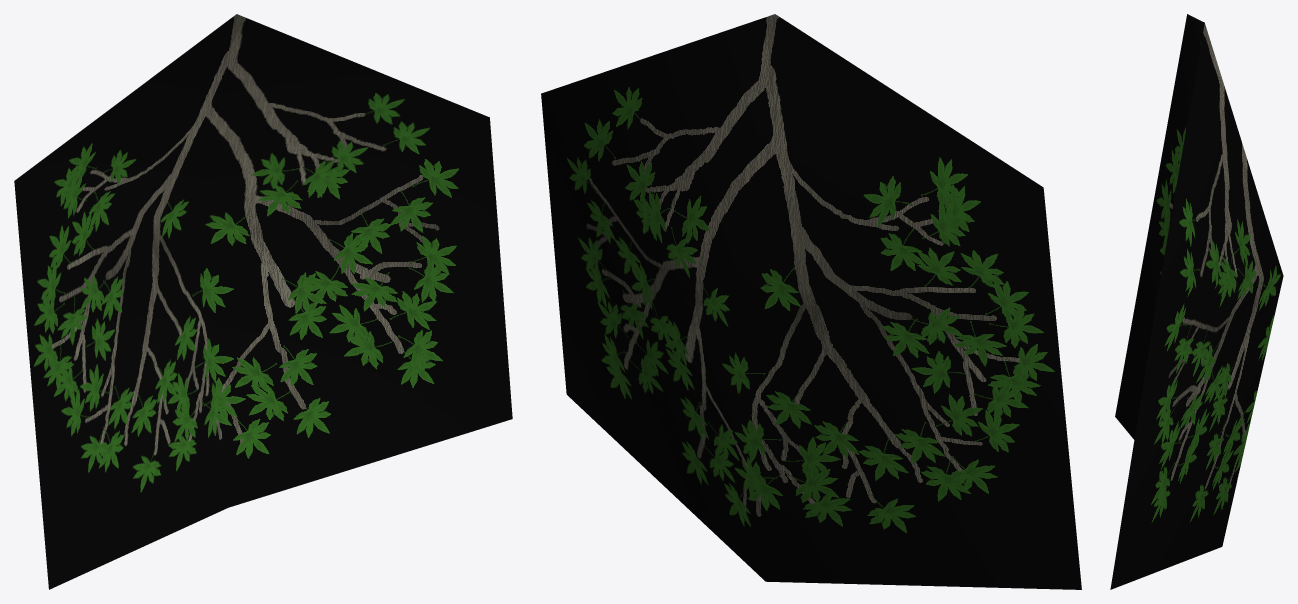
The model's file is LeafMesh20.fbx.
The picture shows the model from 3 angles, left to right: view 1: azimuth 30°, elevation 25°; view 2: azimuth 150°, elevation 25°; view 3: azimuth 270°, elevation 25°; orthographic projection. The views are drawn at different scales.
Parts seen in each view (by area): view 1: LeafMesh1; view 2: LeafMesh1; view 3: LeafMesh1.
Boxes of the visible parts, x1=… form: LeafMesh1: x1=14, y1=14, x2=512, y2=589; LeafMesh1: x1=541, y1=14, x2=1081, y2=589; LeafMesh1: x1=1110, y1=14, x2=1283, y2=589.
Bounding box in the file's own units: 2 × 2.07 × 0.6195.
